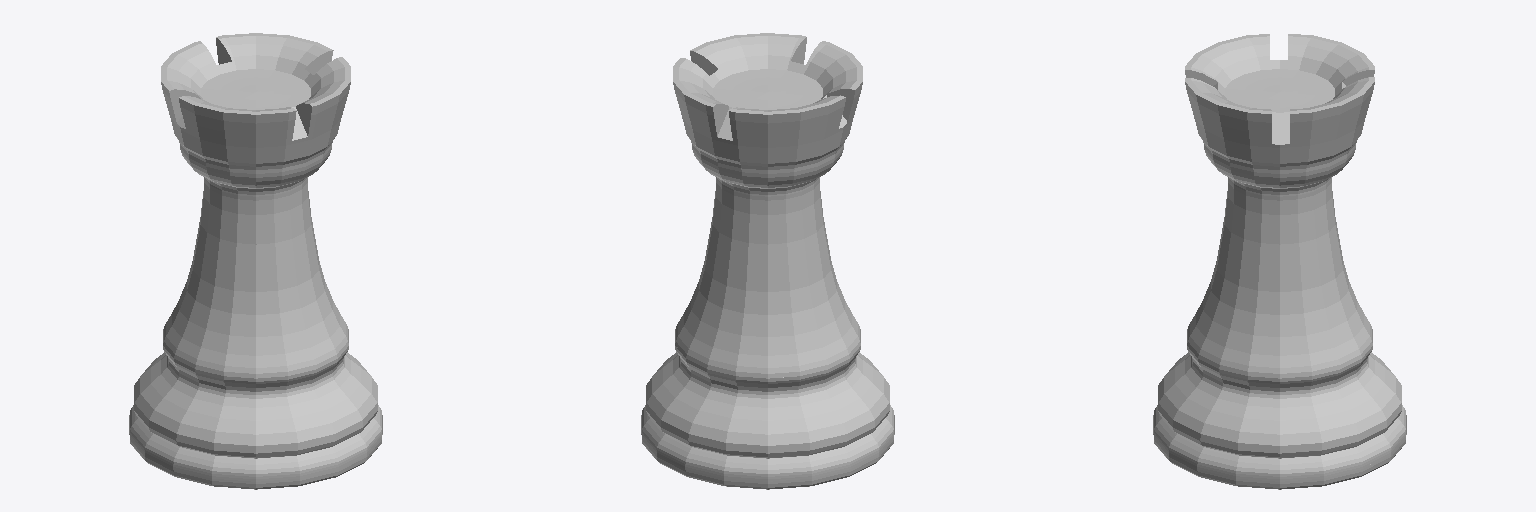
File: rook_w_1.obj
3 views of the same model, side by side, from view 1: azimuth 30°, elevation 25°; view 2: azimuth 150°, elevation 25°; view 3: azimuth 270°, elevation 25° (orthographic).
Visible parts, largest first — view 1: rook_w_1; view 2: rook_w_1; view 3: rook_w_1.
Part boxes in pixels (x1,y1,x2,y2): rook_w_1: (129,33,382,489); rook_w_1: (641,33,894,489); rook_w_1: (1153,34,1406,489).
Size of the model in its own units: 3.32 by 5.2 by 3.27.